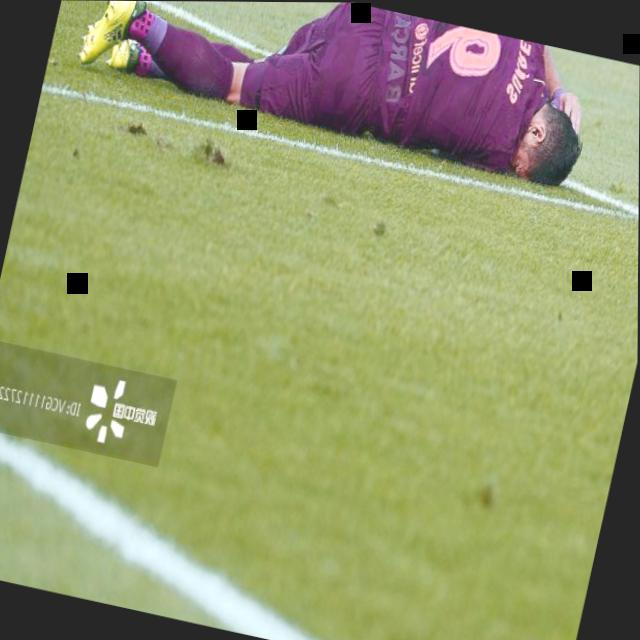Fall-Detected: (77, 0, 603, 197)
